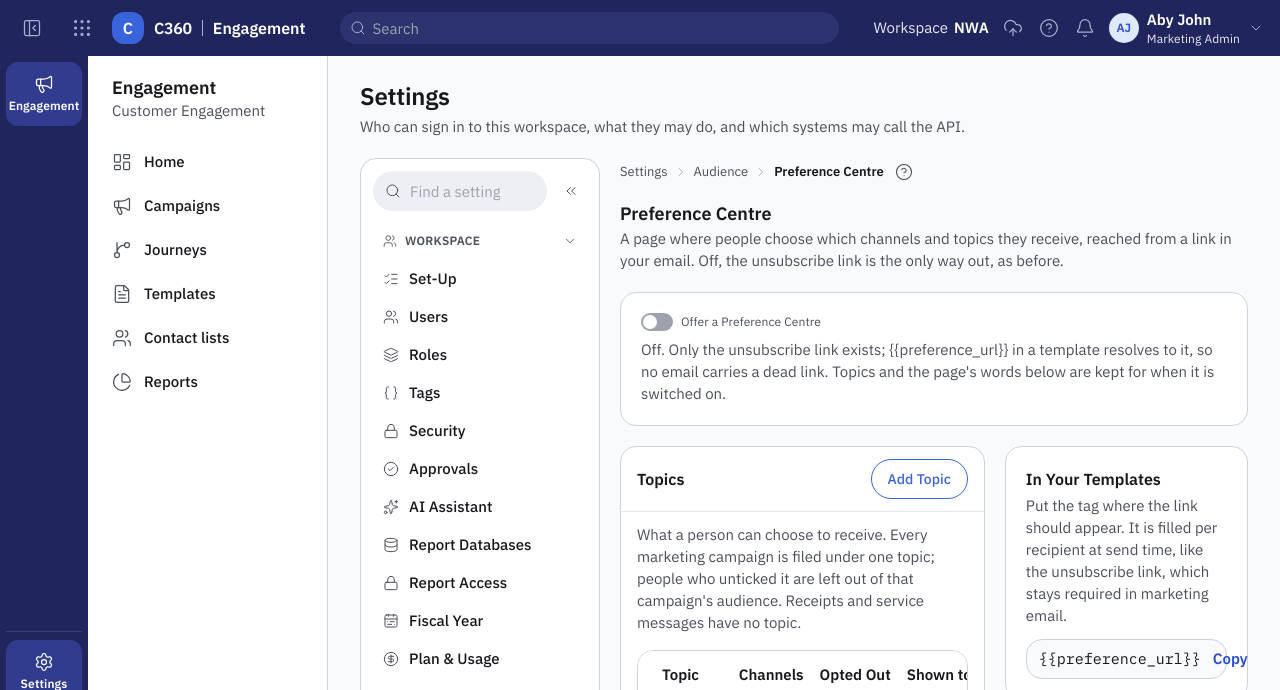
Test: off by default: the tab is in Settings, the switch explains what off means, the topics and the page words are kept; switching on is one PUT
Expected: the heading "Preference Centre" is shown, [620, 202, 772, 225]
Expected: the text "Only the unsubscribe link exists" is shown, [641, 340, 1214, 403]
Click the switch labelled "Offer a Preference Centre" at (731, 322), box [641, 313, 821, 331]
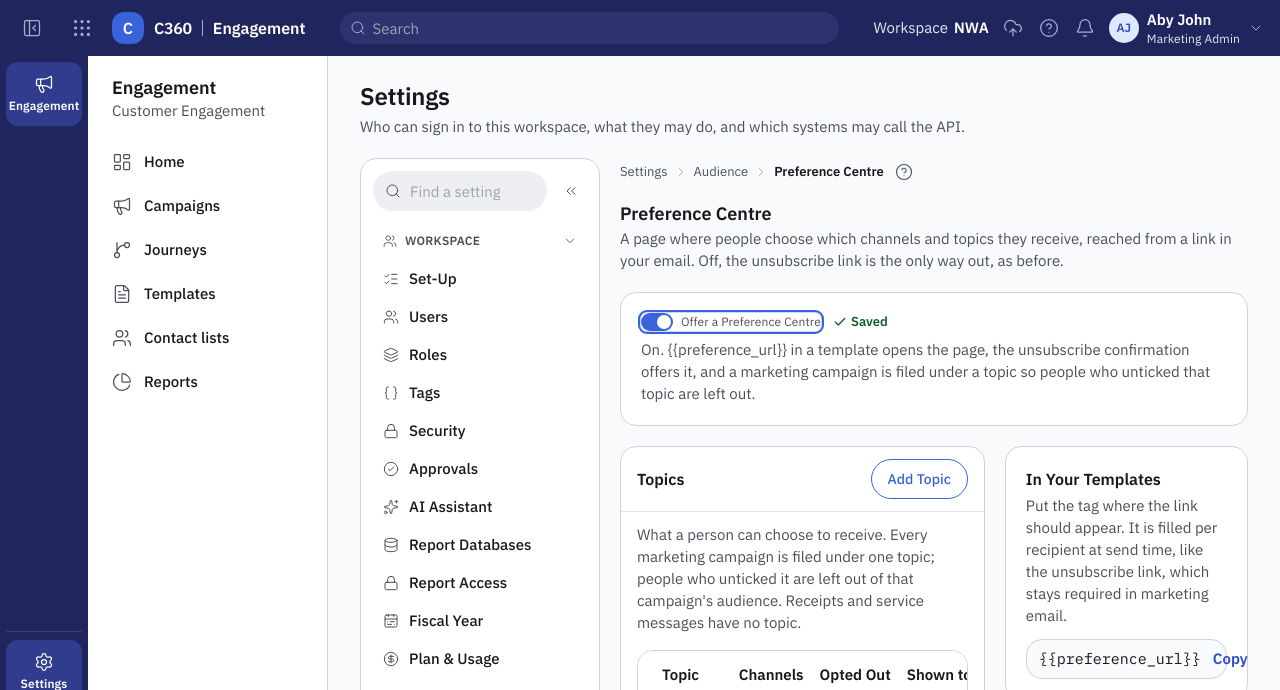
Expected: the text "filed under a topic" is shown, [641, 340, 1210, 403]
